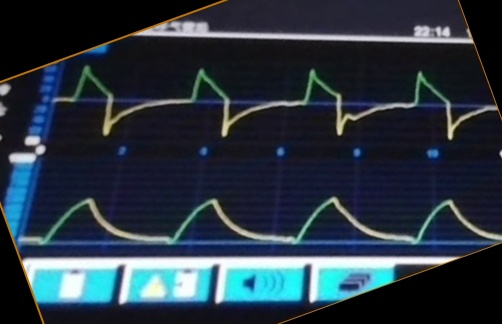Premature_cycling Flow: (65, 60, 479, 140)
Premature_cycling Volume: (36, 178, 485, 248)
